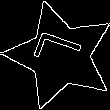L_E: (30, 32, 90, 79)
